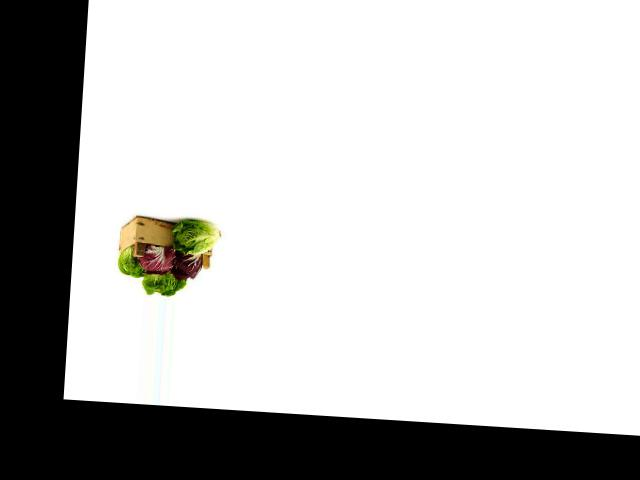lettuce: (141, 264, 187, 297)
